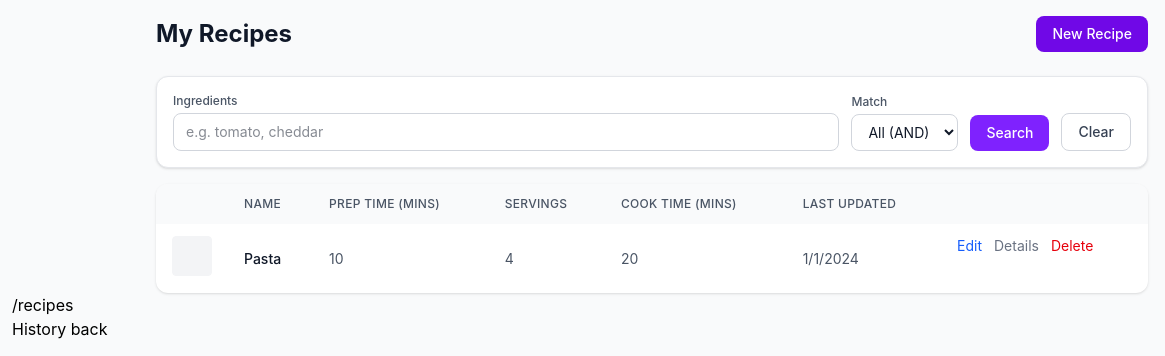
Test: RecipeList › search posts ingredients and combine mode
Expected: the link "Pasta" is shown, [244,250,281,266]
Type "tomato, cheese" into the field with placeholder "e.g. tomato, cheddar" at (506, 132), box [173,113,840,151]
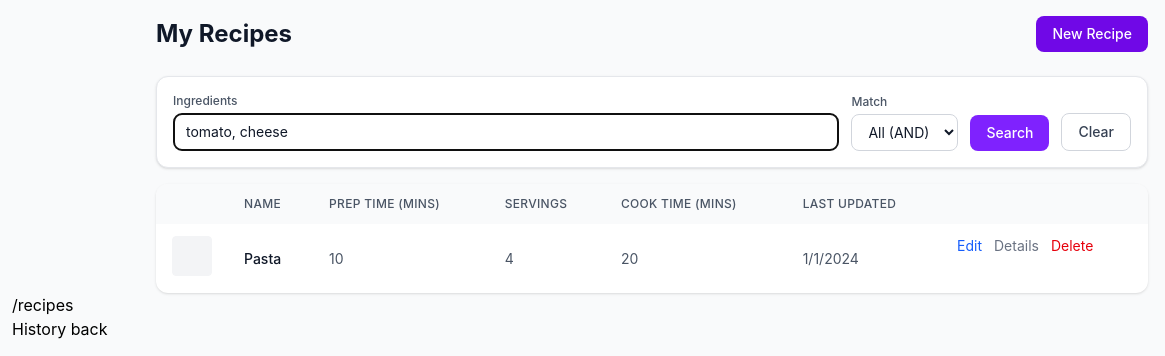
Select "Any (OR)" in the dropdown labelled "Match" at (905, 132), box [852,114,958,151]
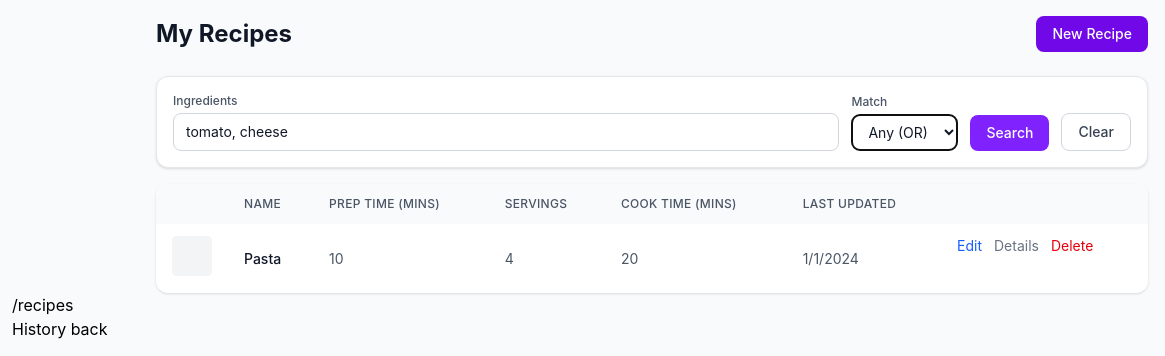
Click the button "Search" at (1010, 133), box [970,115,1050,151]
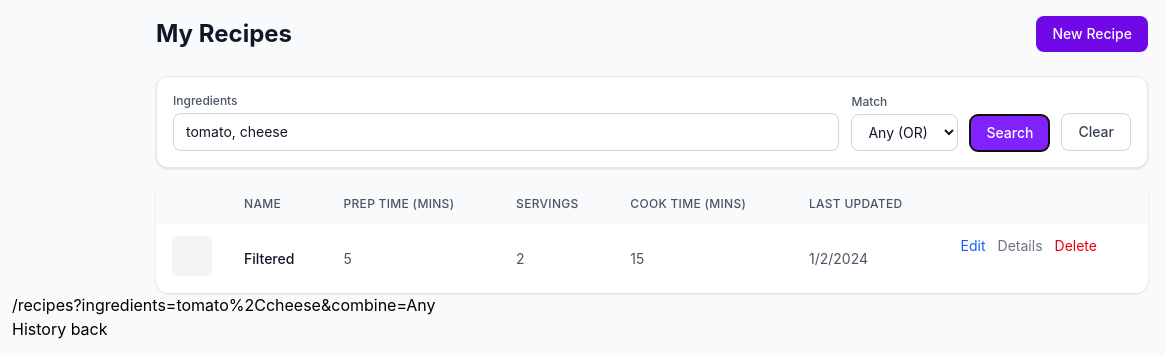
Now the link "Filtered" is shown, box [244,250,294,266]
